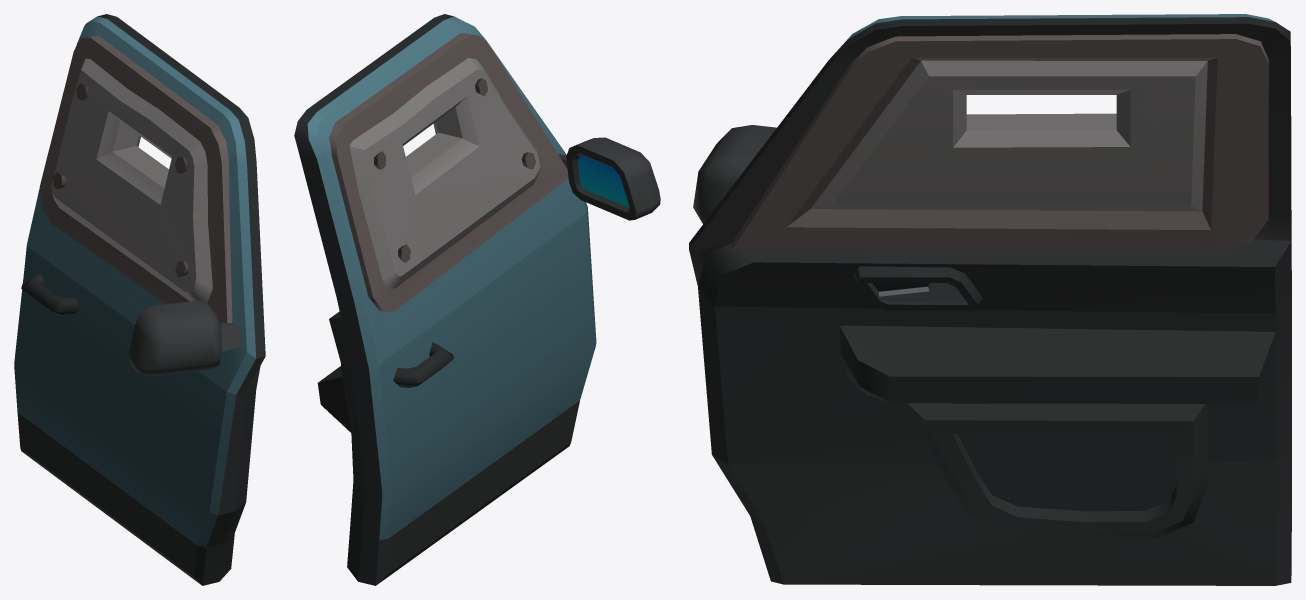
The model's file is Apocalypse_Car_01_Door_R.fbx.
3 renders of one model, left to right at view 1: azimuth 30°, elevation 25°; view 2: azimuth 150°, elevation 25°; view 3: azimuth 270°, elevation 25°, orthographic. The views are drawn at different scales.
Visible parts, largest first — view 1: Apocalypse_Car_01_Door_R; view 2: Apocalypse_Car_01_Door_R; view 3: Apocalypse_Car_01_Door_R.
Part boxes in pixels (box(x1,y1,x2,y2)): Apocalypse_Car_01_Door_R: box(14, 14, 265, 585); Apocalypse_Car_01_Door_R: box(294, 14, 660, 585); Apocalypse_Car_01_Door_R: box(689, 14, 1291, 585).
Bounding box in the file's own units: 51.97 × 121 × 133.
